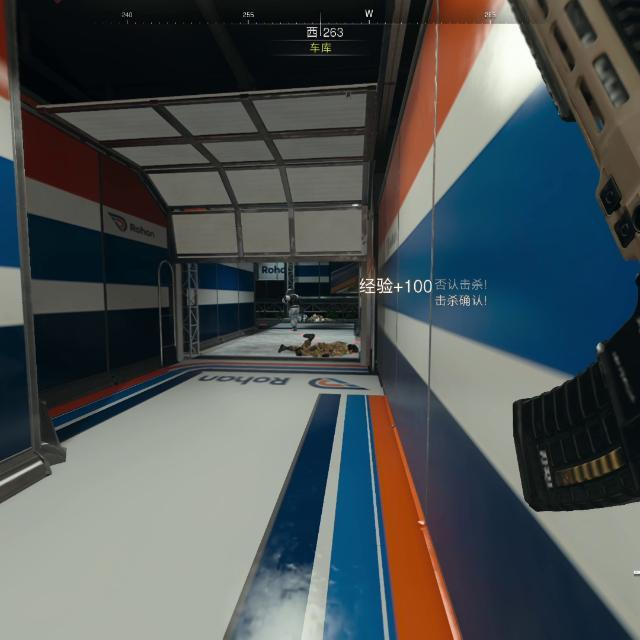MW2_body: (282, 288, 304, 331)
